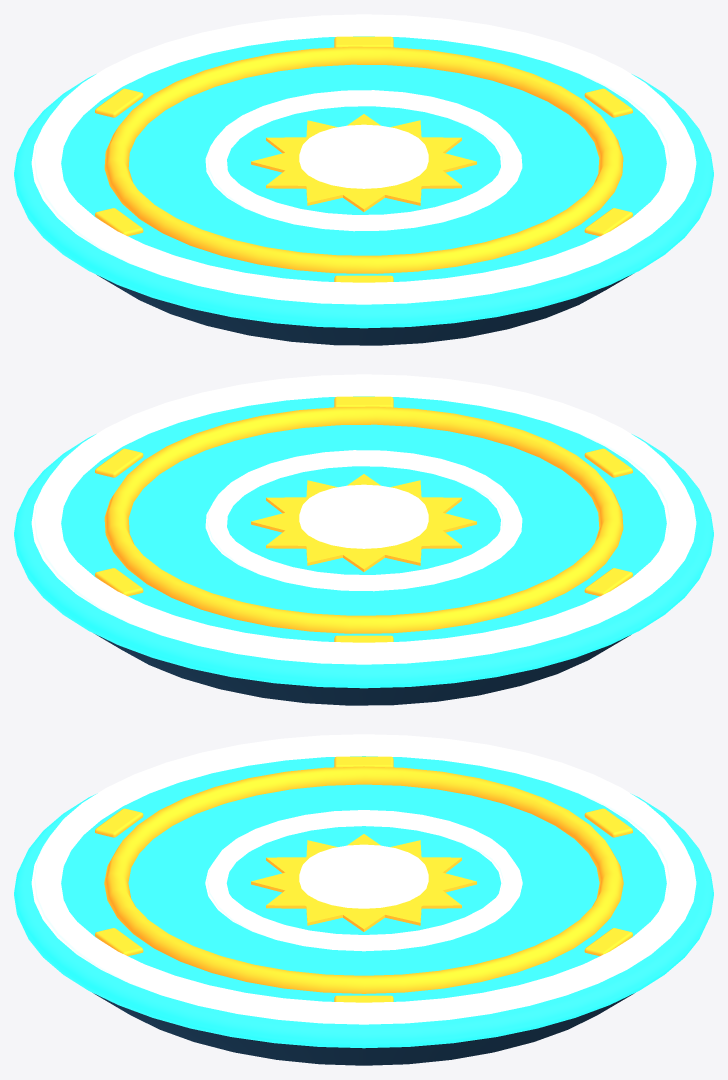
File: PROP_YoyoDisc.glb
3 views of the same model, one above another, from view 1: azimuth 30°, elevation 25°; view 2: azimuth 150°, elevation 25°; view 3: azimuth 270°, elevation 25° (orthographic).
Visible parts, largest first — view 1: Top, OuterRing, MidRing, InnerRing, Under, Core, Sun, Mark_0, Mark_2, Mark_3, Mark_5, Mark_1; view 2: Top, OuterRing, MidRing, InnerRing, Under, Core, Sun, Mark_0, Mark_4, Mark_1, Mark_3, Mark_5; view 3: Top, OuterRing, MidRing, InnerRing, Under, Core, Sun, Mark_2, Mark_4, Mark_1, Mark_5, Mark_3.
Part boxes in pixels (bbox=[...]): Top: bbox=[14, 36, 713, 328]; OuterRing: bbox=[31, 14, 696, 304]; MidRing: bbox=[104, 46, 623, 273]; InnerRing: bbox=[205, 90, 522, 231]; Under: bbox=[97, 274, 632, 345]; Core: bbox=[299, 124, 428, 188]; Sun: bbox=[251, 114, 476, 211]; Mark_0: bbox=[584, 88, 632, 117]; Mark_2: bbox=[95, 88, 143, 117]; Mark_3: bbox=[95, 208, 143, 236]; Mark_5: bbox=[584, 208, 632, 236]; Mark_1: bbox=[334, 36, 393, 47]; Top: bbox=[14, 396, 713, 688]; OuterRing: bbox=[31, 374, 696, 664]; MidRing: bbox=[104, 406, 623, 633]; InnerRing: bbox=[205, 450, 522, 591]; Under: bbox=[95, 634, 630, 705]; Core: bbox=[299, 484, 428, 548]; Sun: bbox=[251, 474, 476, 571]; Mark_0: bbox=[95, 448, 143, 477]; Mark_4: bbox=[584, 448, 632, 477]; Mark_1: bbox=[95, 568, 143, 596]; Mark_3: bbox=[584, 568, 632, 596]; Mark_5: bbox=[334, 396, 393, 407]; Top: bbox=[14, 756, 713, 1048]; OuterRing: bbox=[31, 734, 696, 1024]; MidRing: bbox=[104, 766, 623, 993]; InnerRing: bbox=[205, 810, 522, 951]; Under: bbox=[93, 993, 634, 1065]; Core: bbox=[299, 844, 428, 908]; Sun: bbox=[251, 834, 476, 931]; Mark_2: bbox=[584, 808, 632, 837]; Mark_4: bbox=[95, 808, 143, 837]; Mark_1: bbox=[584, 928, 632, 956]; Mark_5: bbox=[95, 928, 143, 956]; Mark_3: bbox=[334, 756, 393, 767].
Size of the model in its own units: 2.6 by 0.46 by 2.6.
